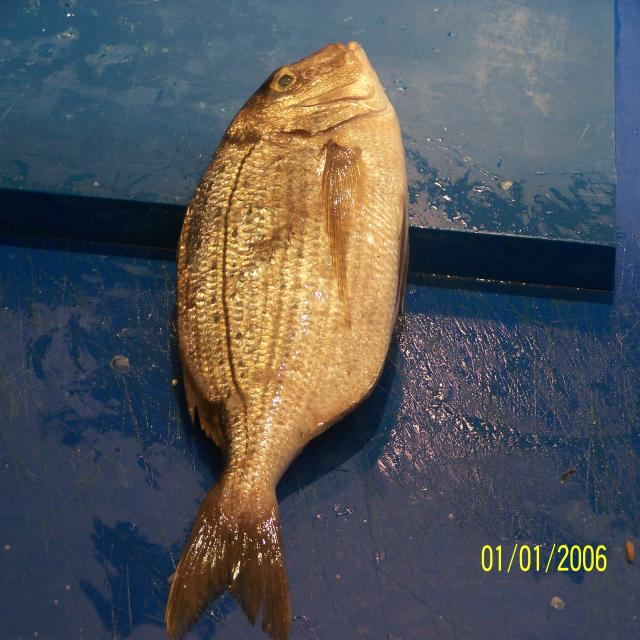Red-Sea-Bream-mercan-: (164, 42, 410, 640)
